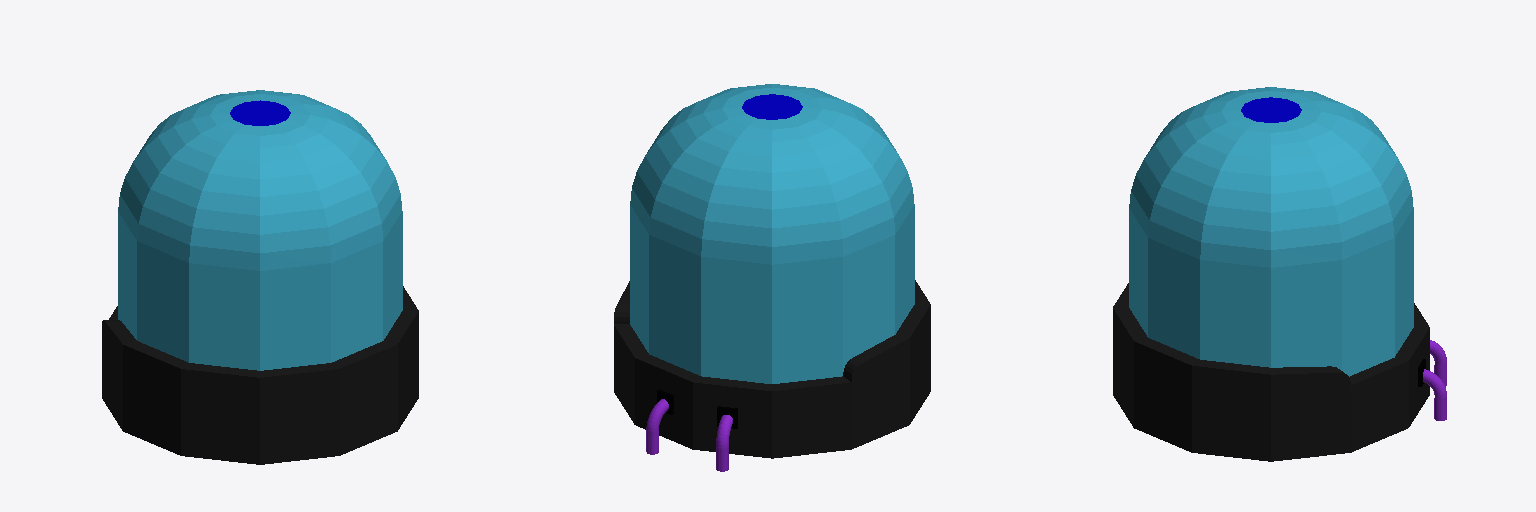
The model's file is FoodFarm.obj.
The picture shows the model from 3 angles: view 1: azimuth 30°, elevation 25°; view 2: azimuth 150°, elevation 25°; view 3: azimuth 270°, elevation 25°; orthographic projection.
Visible parts, largest first — view 1: Cylinder.001_Cylinder.012; view 2: Cylinder.001_Cylinder.012; view 3: Cylinder.001_Cylinder.012.
Boxes of the visible parts, <box> form: Cylinder.001_Cylinder.012: <box>102,90,418,464</box>; Cylinder.001_Cylinder.012: <box>614,84,930,471</box>; Cylinder.001_Cylinder.012: <box>1113,87,1446,461</box>.
Bounding box in the file's own units: 0.6 × 0.608 × 0.6326.